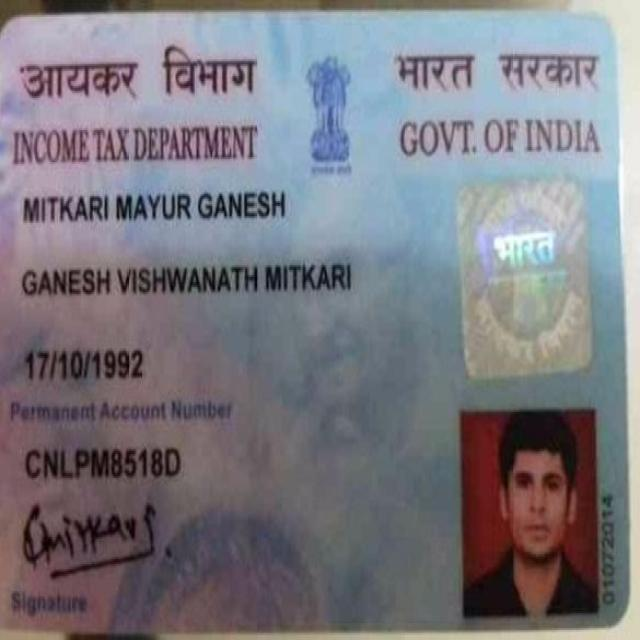pan_card: (0, 12, 630, 624)
